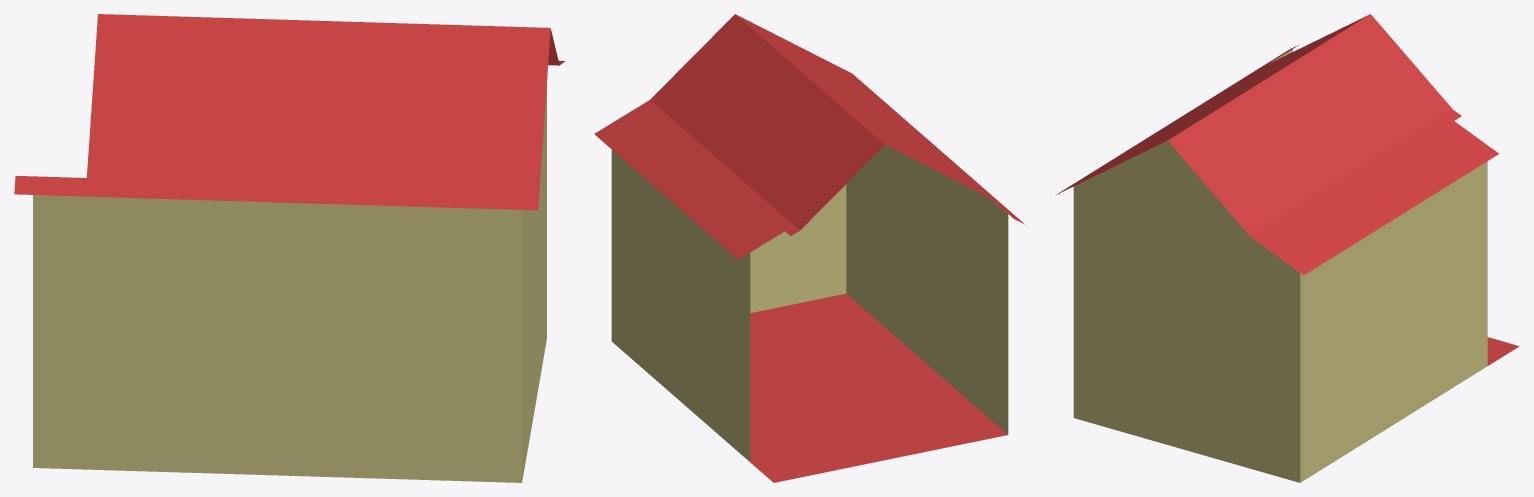
3 views of the same model, side by side, from view 1: azimuth 30°, elevation 25°; view 2: azimuth 150°, elevation 25°; view 3: azimuth 270°, elevation 25° (orthographic). The views are drawn at different scales.
Size of the model in its own units: 18.5 by 16.69 by 12.32.
